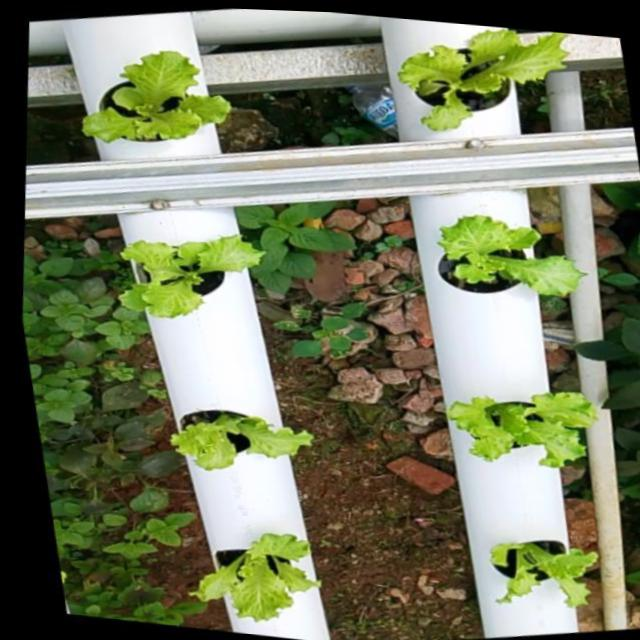Baby: (401, 31, 573, 133), (81, 48, 231, 157), (119, 232, 268, 317), (432, 211, 582, 292), (442, 387, 592, 463), (186, 528, 317, 615), (167, 405, 310, 466), (486, 535, 593, 601)
